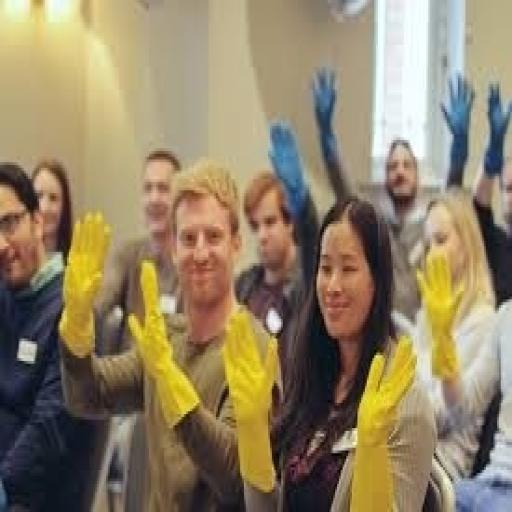clapping: (56, 157, 283, 509), (272, 193, 439, 509)
